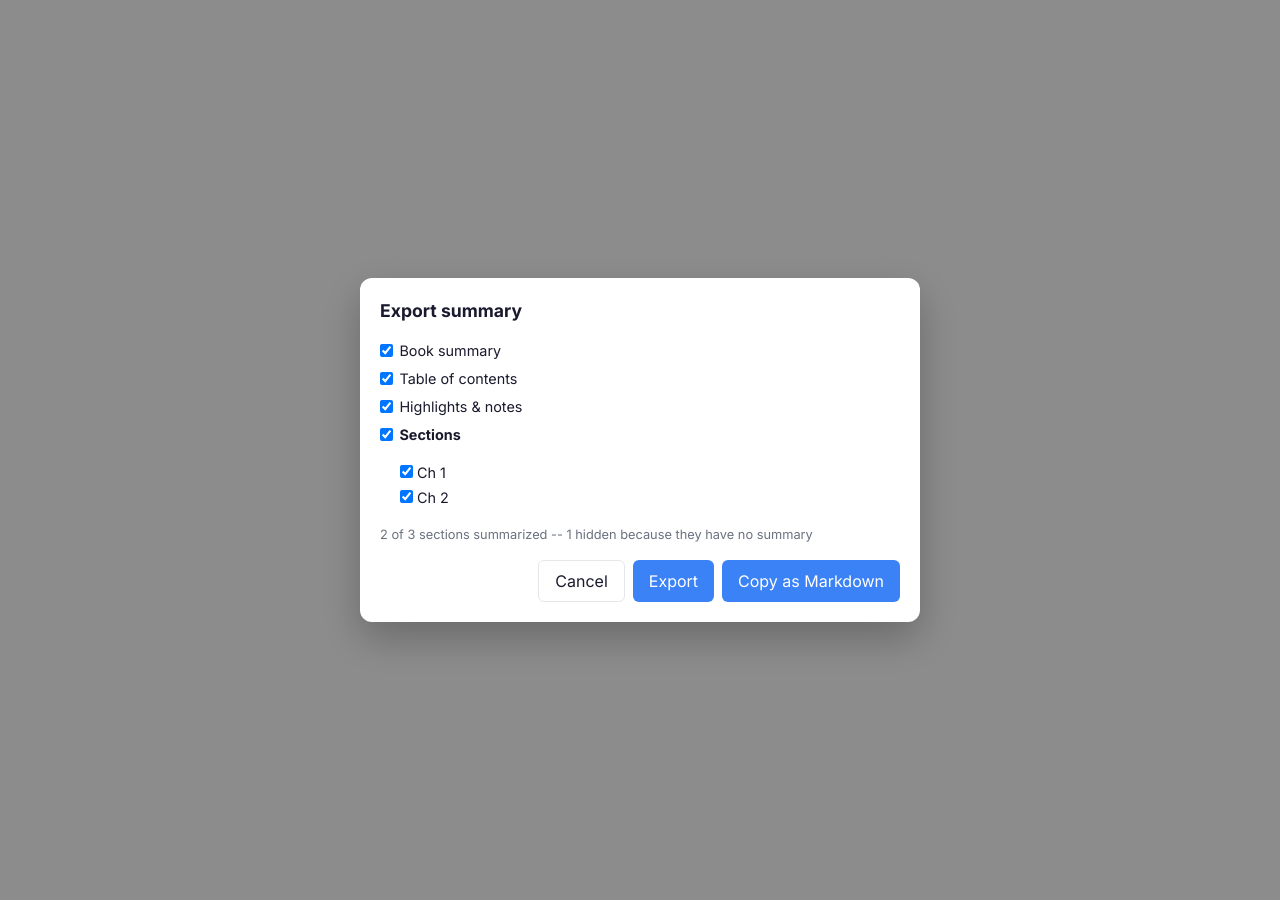
Test: ExportCustomizeModal › Sections master click flips indeterminate -> checked -> unchecked
Step 1. Click the checkbox with test id "section-checkbox-10" → (406, 471), box x1=400 y1=465 x2=413 y2=478
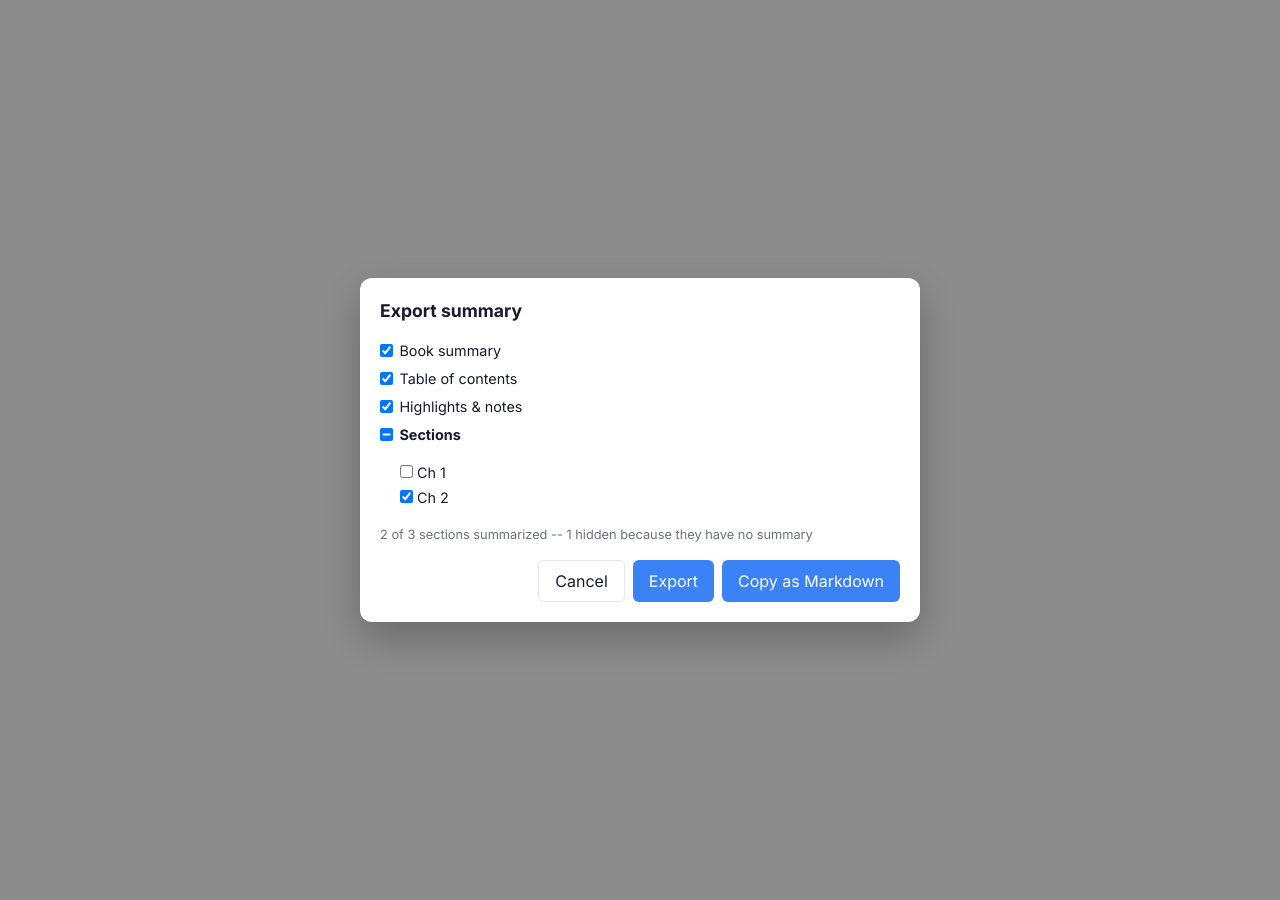
Step 2. Click the checkbox with test id "sections-master" showing "Sections" → (386, 435), box x1=380 y1=428 x2=393 y2=442
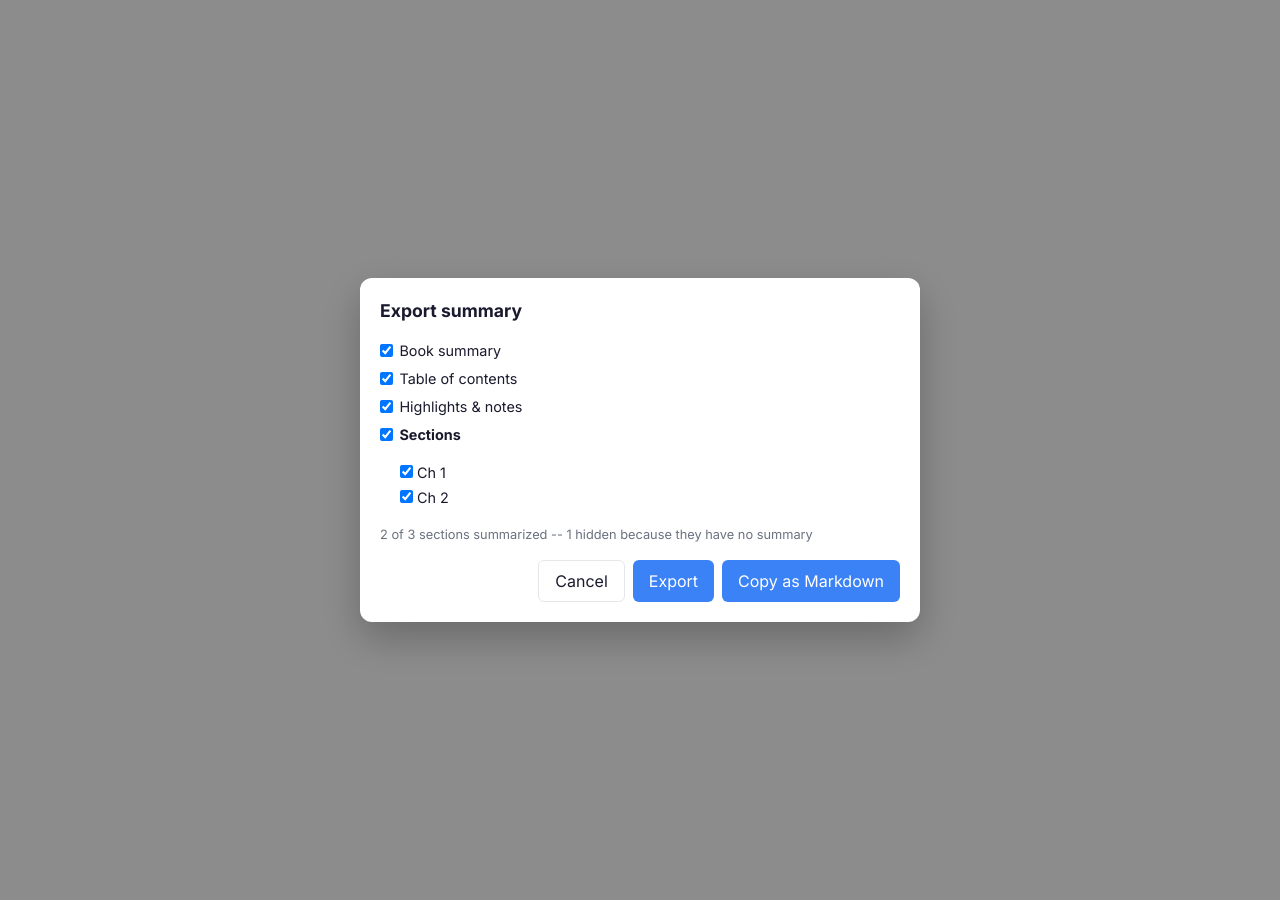
Check: the checkbox with test id "section-checkbox-11" is checked, box x1=400 y1=490 x2=413 y2=503
Check: the checkbox with test id "section-checkbox-10" is checked, box x1=400 y1=465 x2=413 y2=478
Step 3. Click the checkbox with test id "sections-master" showing "Sections" → (386, 435), box x1=380 y1=428 x2=393 y2=442
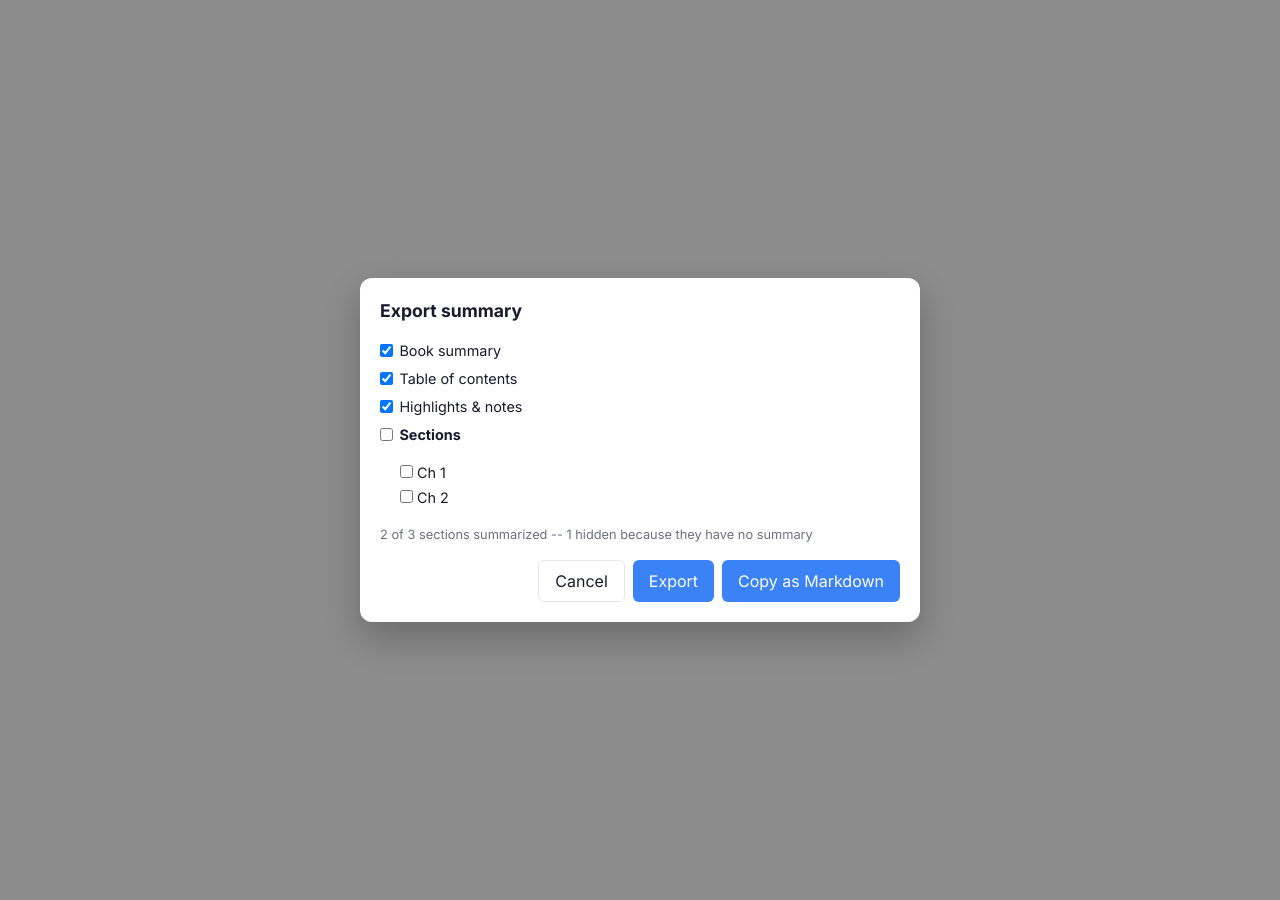
Check: the checkbox with test id "section-checkbox-10" is not checked, box x1=400 y1=465 x2=413 y2=478
Check: the checkbox with test id "section-checkbox-11" is not checked, box x1=400 y1=490 x2=413 y2=503
